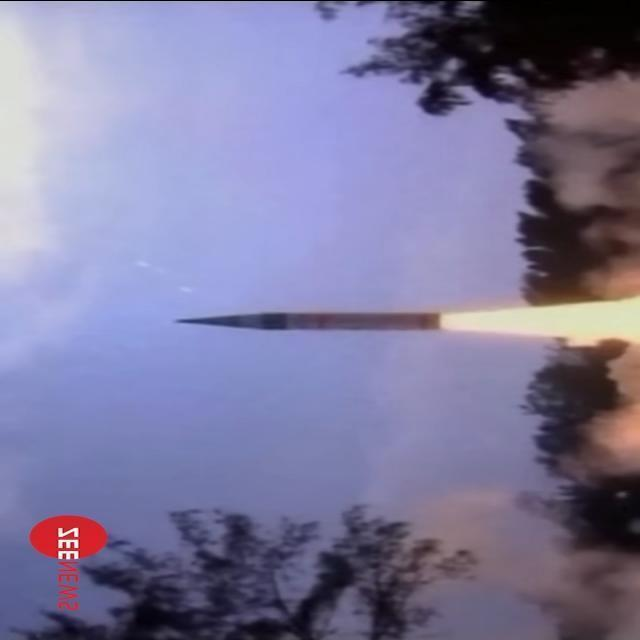missile: (170, 301, 442, 337)
